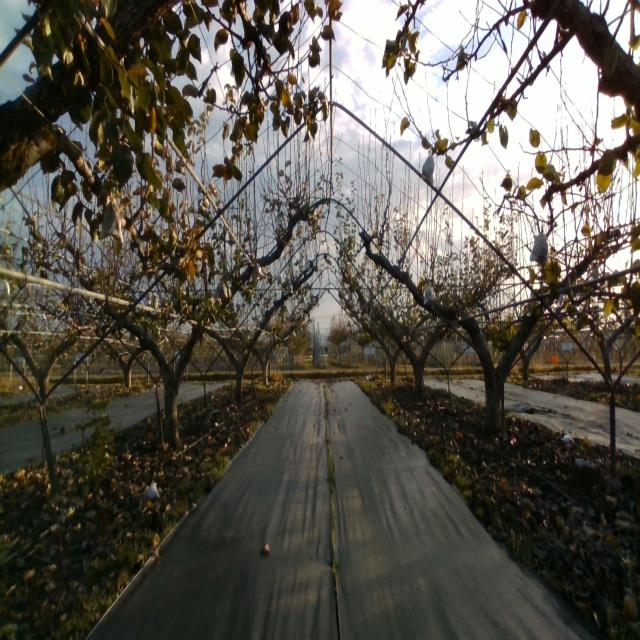pearbags: (100, 197, 124, 244), (530, 226, 548, 269), (421, 149, 435, 189), (214, 278, 232, 300), (423, 282, 436, 306), (252, 259, 264, 283)
